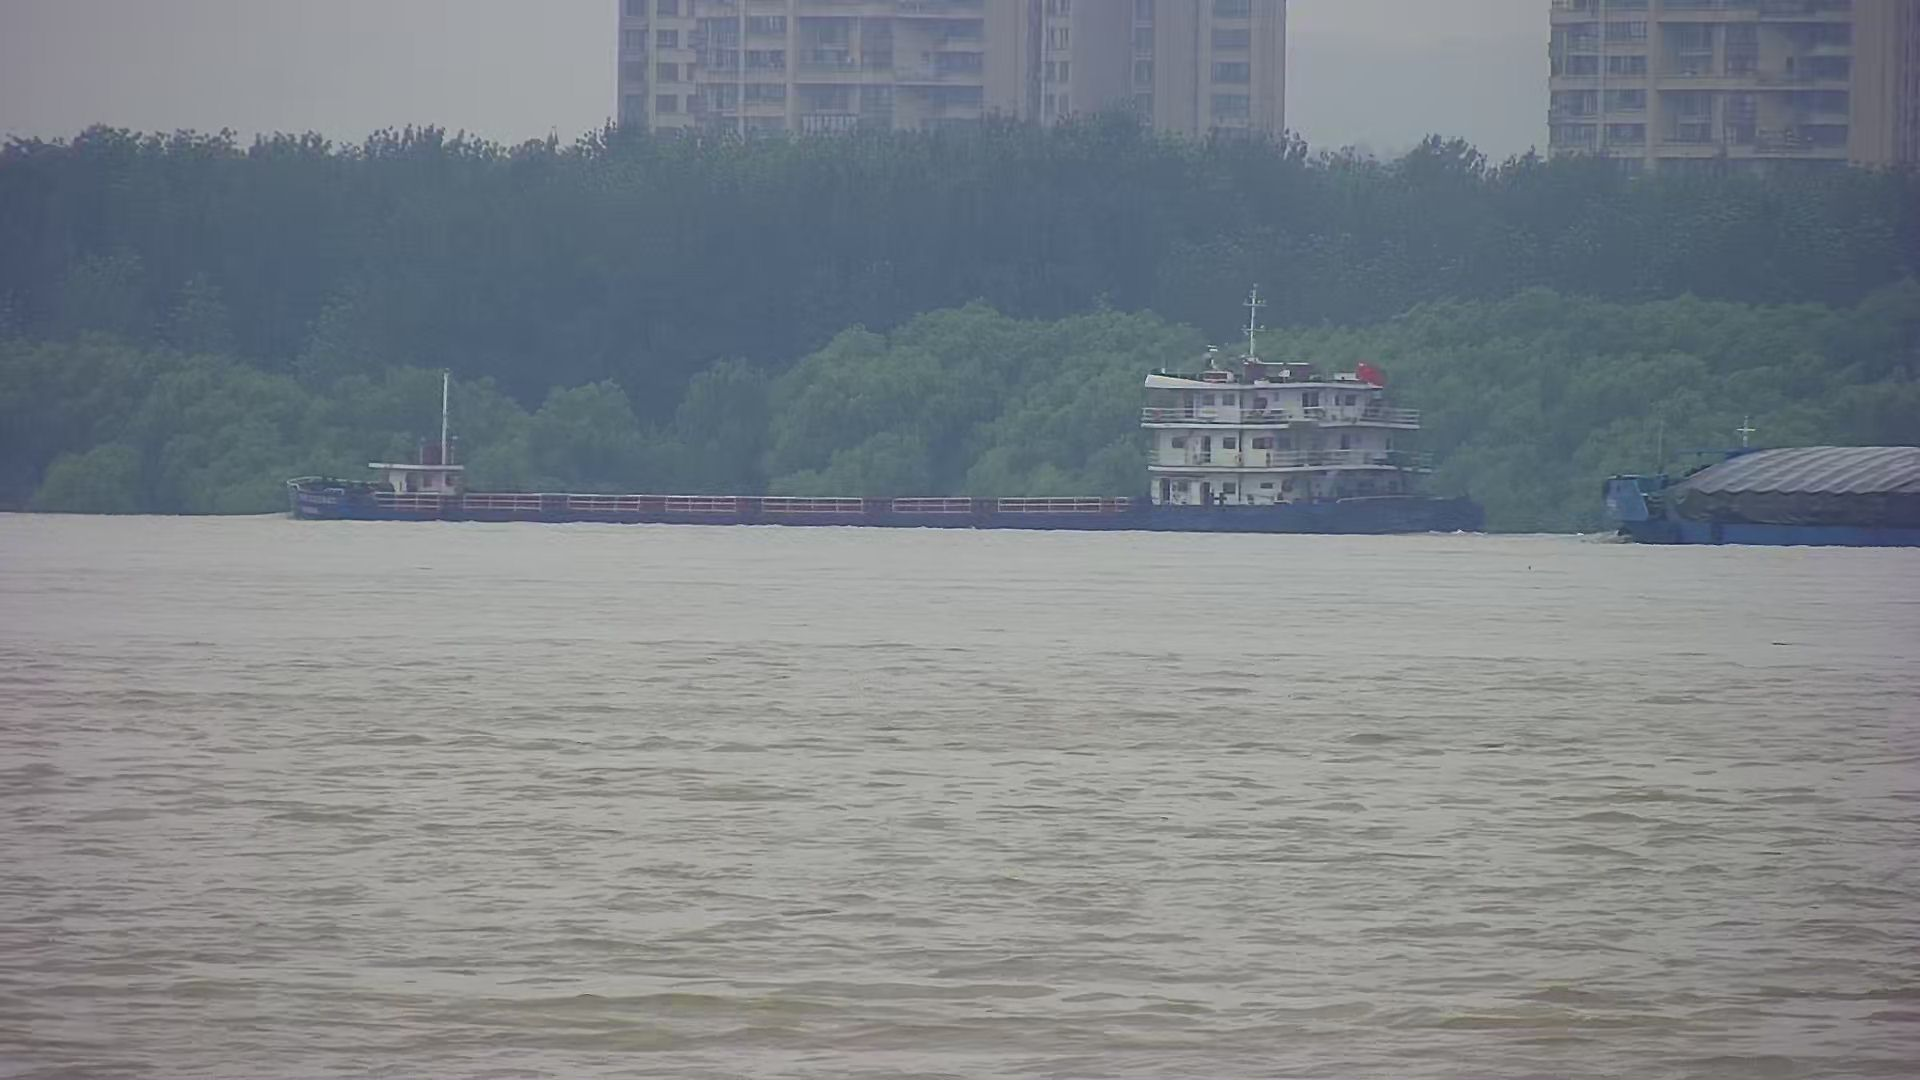ship: (266, 316, 1485, 541), (1589, 386, 1920, 558)
